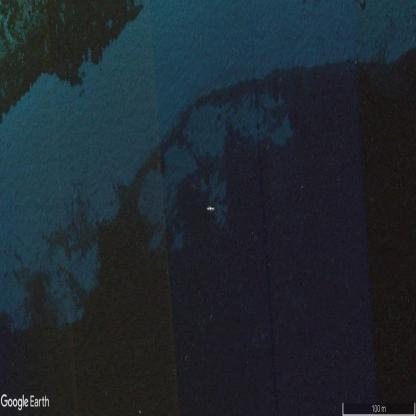ship: (207, 207, 215, 211)
